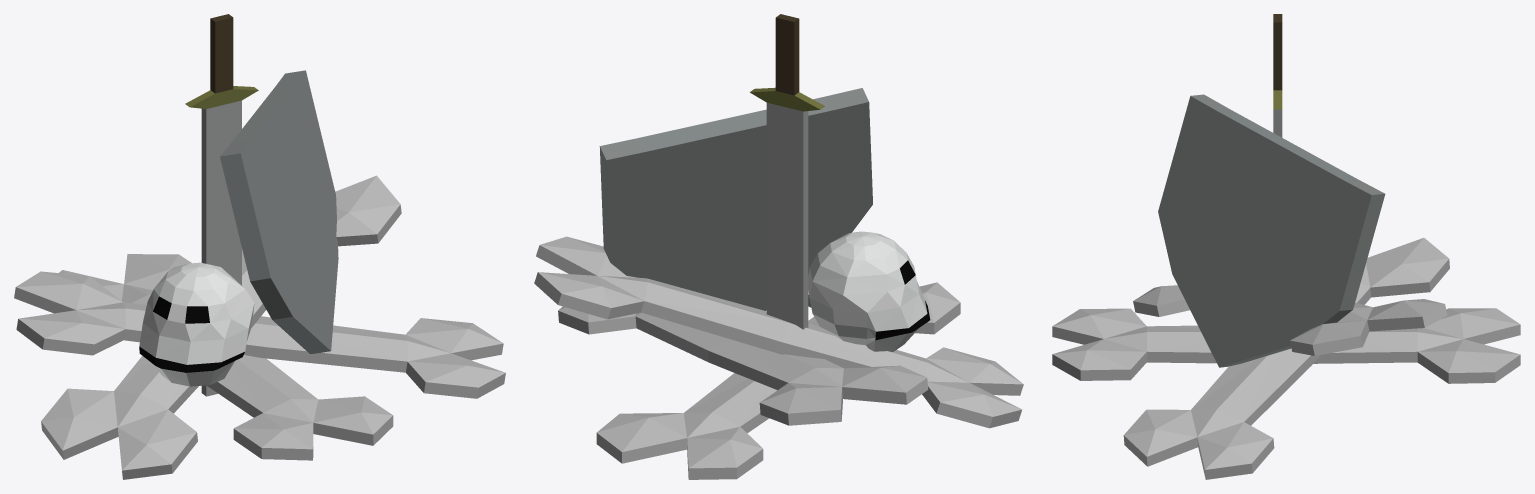
Rendered from BonePile-sizing.glb.
The picture shows the model from 3 angles, left to right: view 1: azimuth 30°, elevation 25°; view 2: azimuth 150°, elevation 25°; view 3: azimuth 270°, elevation 25°; orthographic projection. The views are drawn at different scales.
Parts seen in each view (by area): view 1: |buffs:pCube4_lambert2, |buffs:pCube4_lambert5, |buffs:pCube4_lambert4, |buffs:pCube4_lambert6, |buffs:pCube4_lambert8, |buffs:pCube4_lambert3, |buffs:pCube4_lambert7; view 2: |buffs:pCube4_lambert2, |buffs:pCube4_lambert5, |buffs:pCube4_lambert4, |buffs:pCube4_lambert6, |buffs:pCube4_lambert8, |buffs:pCube4_lambert7, |buffs:pCube4_lambert3; view 3: |buffs:pCube4_lambert5, |buffs:pCube4_lambert2, |buffs:pCube4_lambert8.
Boxes of the visible parts, box(x1,y1,x2,y2) form: |buffs:pCube4_lambert2: box(14, 175, 505, 479); |buffs:pCube4_lambert5: box(220, 70, 338, 353); |buffs:pCube4_lambert4: box(139, 262, 254, 386); |buffs:pCube4_lambert6: box(201, 100, 241, 396); |buffs:pCube4_lambert8: box(210, 14, 233, 93); |buffs:pCube4_lambert3: box(139, 296, 244, 372); |buffs:pCube4_lambert7: box(185, 86, 258, 108); |buffs:pCube4_lambert2: box(534, 236, 1023, 479); |buffs:pCube4_lambert5: box(599, 88, 872, 310); |buffs:pCube4_lambert4: box(808, 231, 927, 351); |buffs:pCube4_lambert6: box(766, 102, 808, 329); |buffs:pCube4_lambert8: box(775, 14, 799, 95); |buffs:pCube4_lambert7: box(750, 87, 824, 111); |buffs:pCube4_lambert3: box(875, 260, 930, 340); |buffs:pCube4_lambert5: box(1158, 94, 1385, 367); |buffs:pCube4_lambert2: box(1052, 238, 1520, 479); |buffs:pCube4_lambert8: box(1273, 14, 1282, 90).
Bounding box in the file's own units: 1.23 × 1.01 × 1.2.
